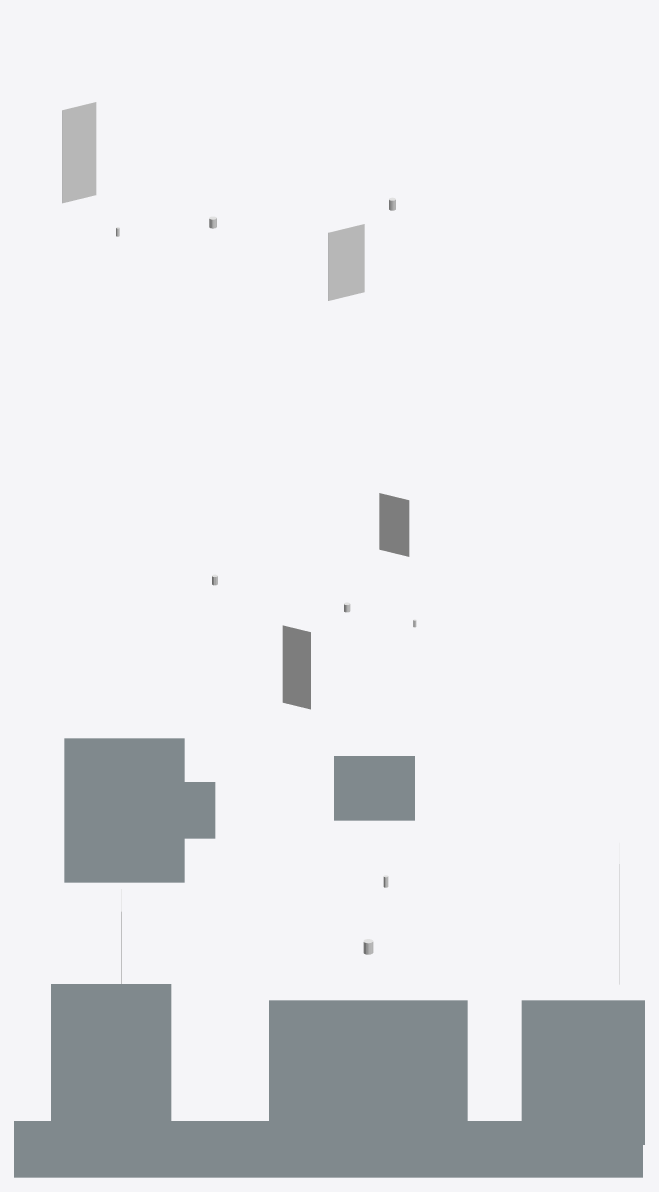
Rendered from GLASS.glb.
3 renders of one model, top to bottom at view 1: azimuth 30°, elevation 25°; view 2: azimuth 150°, elevation 25°; view 3: azimuth 270°, elevation 25°, orthographic. The views are drawn at different scales.
Parts seen in each view (by area): view 1: WEB_GLASS; view 2: WEB_GLASS; view 3: WEB_GLASS.
Boxes of the visible parts, box(x1,y1,x2,y2) form: WEB_GLASS: box(62, 102, 395, 300); WEB_GLASS: box(212, 493, 416, 709); WEB_GLASS: box(14, 738, 644, 1177).
Size of the model in its own units: 12.35 by 2.45 by 9.7.
